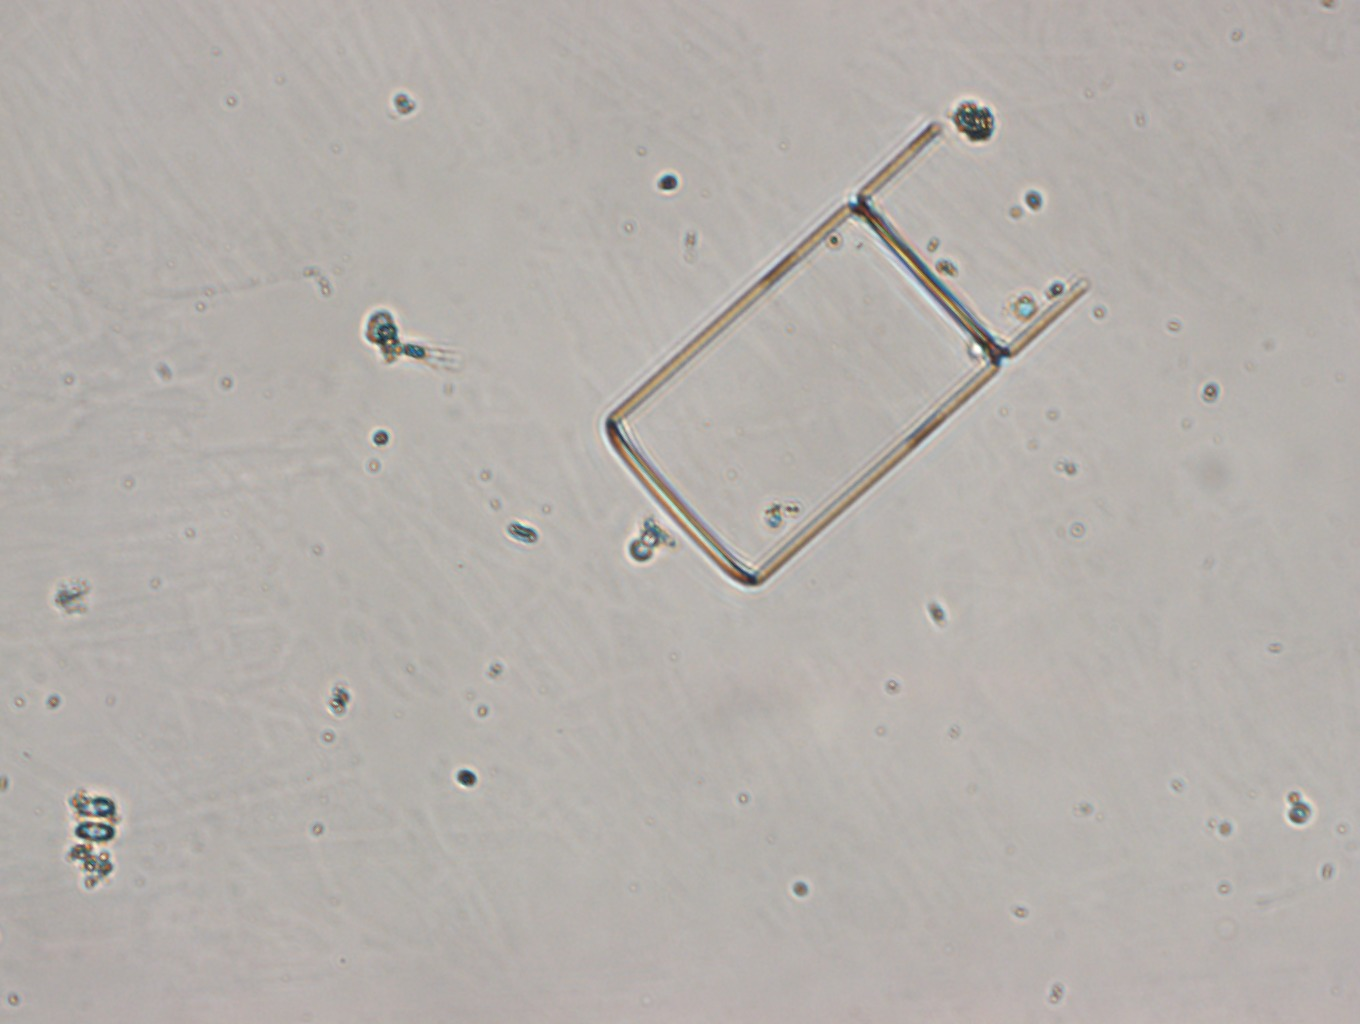guinardia flaccida: (597, 115, 1093, 589)
